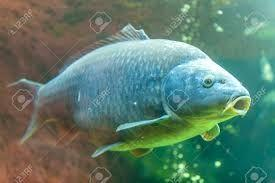Grass Carp: (8, 24, 251, 160)
